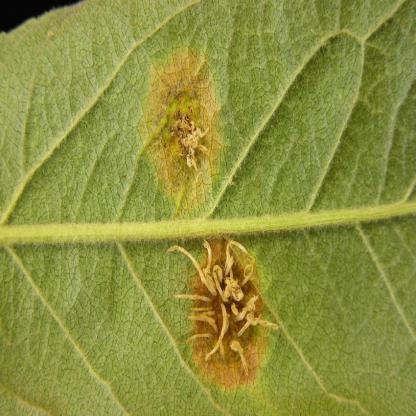apple rust leaf: (114, 15, 308, 415)
